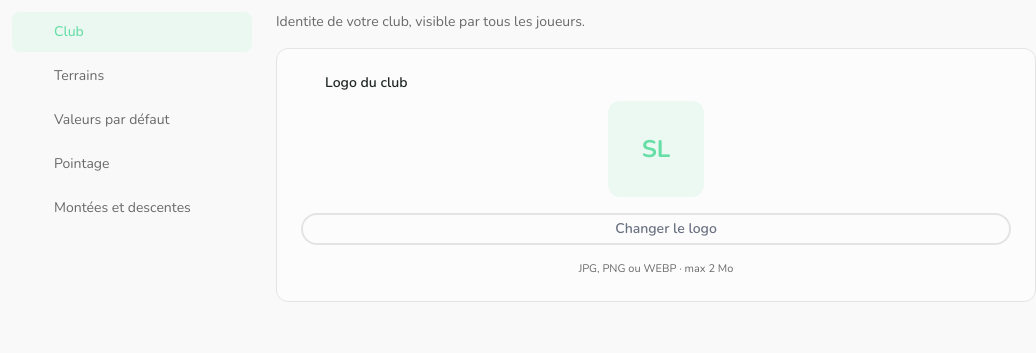
Test case: SettingsManager › dit que les regles sont un modele pour les prochains evenements
Step 1. Click the tab "Montées et descentes" → (132, 208), box [12,188,252,228]
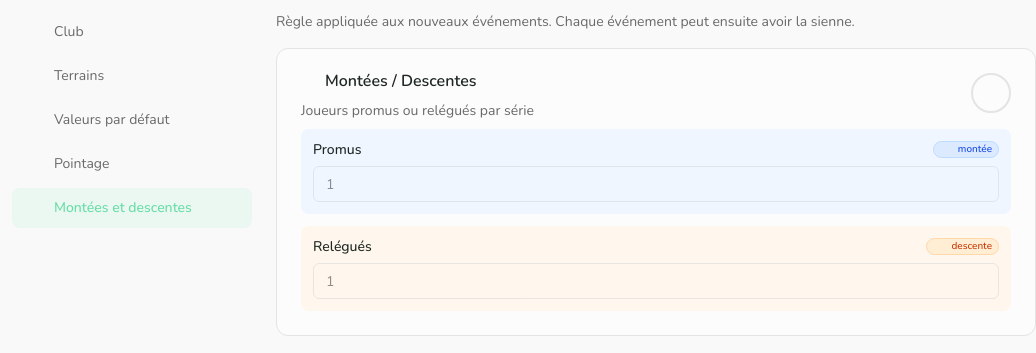
Now the text "nouveaux événements" is shown, box [276,12,855,31]
